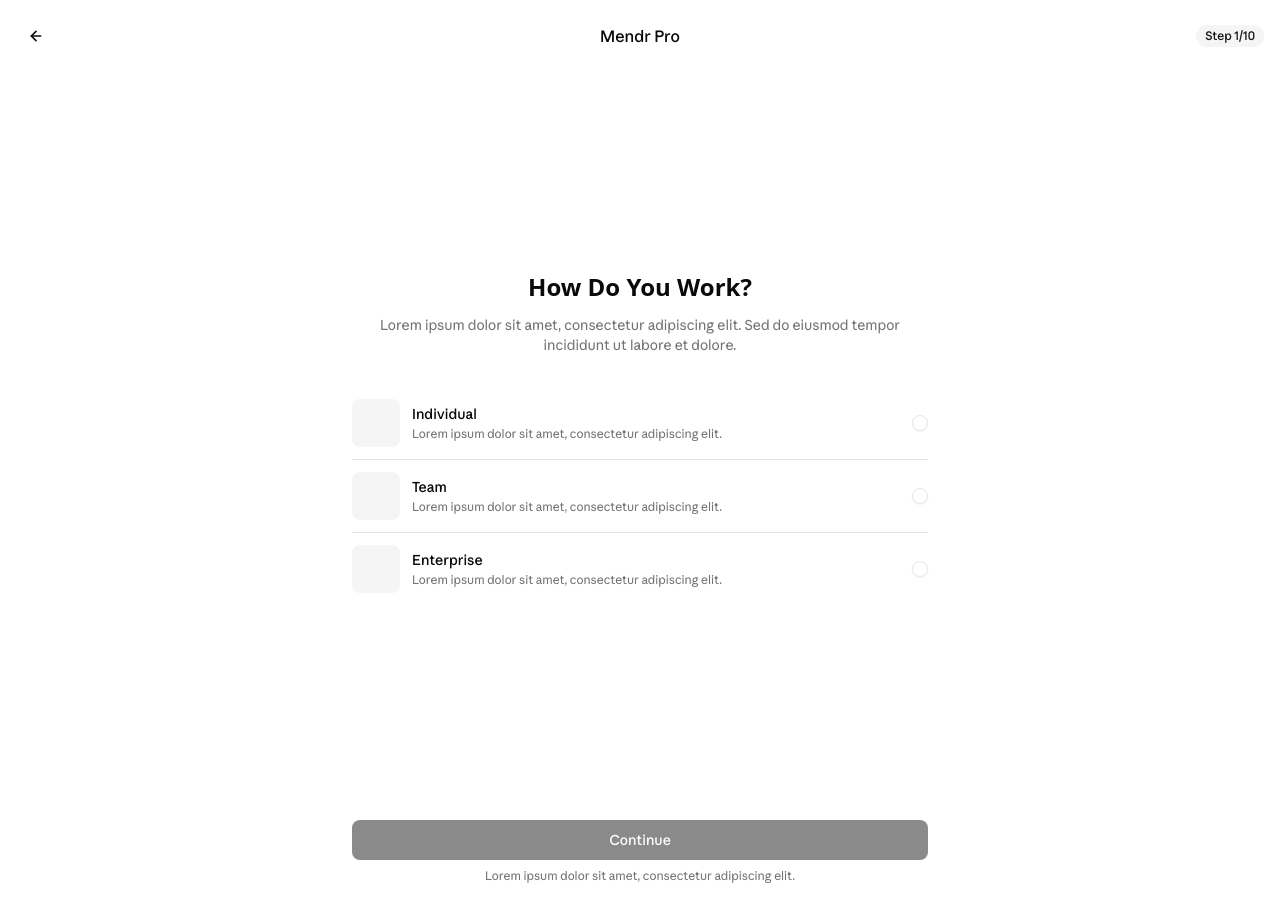
ProOnboardPage — multi-step contractor application › advances to Step 2 (Company Search) on Continue
The image size is (1280, 900).
expect the heading "How Do You Work?" is shown: met, box [528,271,752,303]
Step 1. Click the radio button named "team" in the row of "Team" → (920, 496), box [912,488,928,504]
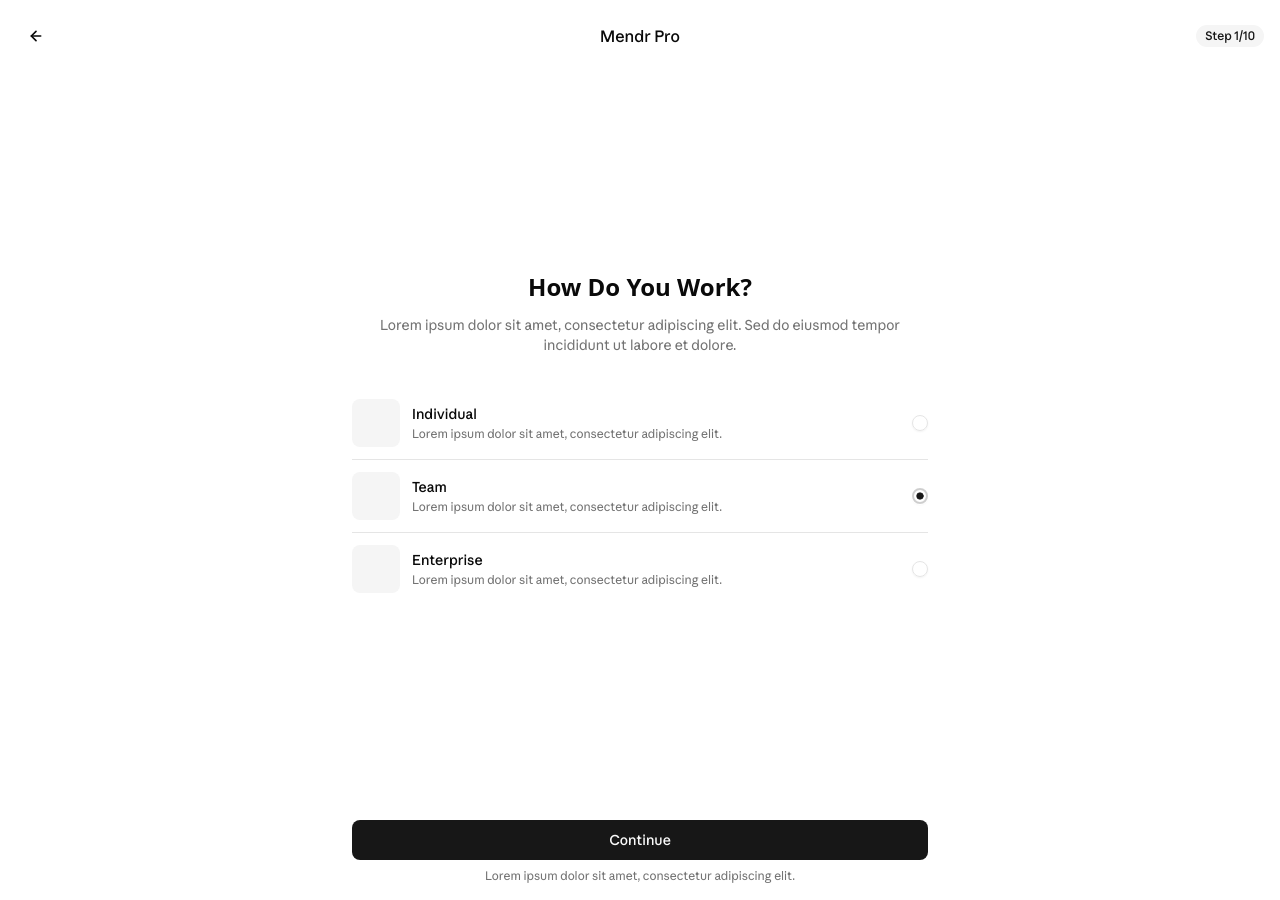
Step 2. Click the button "Continue" → (640, 840), box [352,820,928,860]
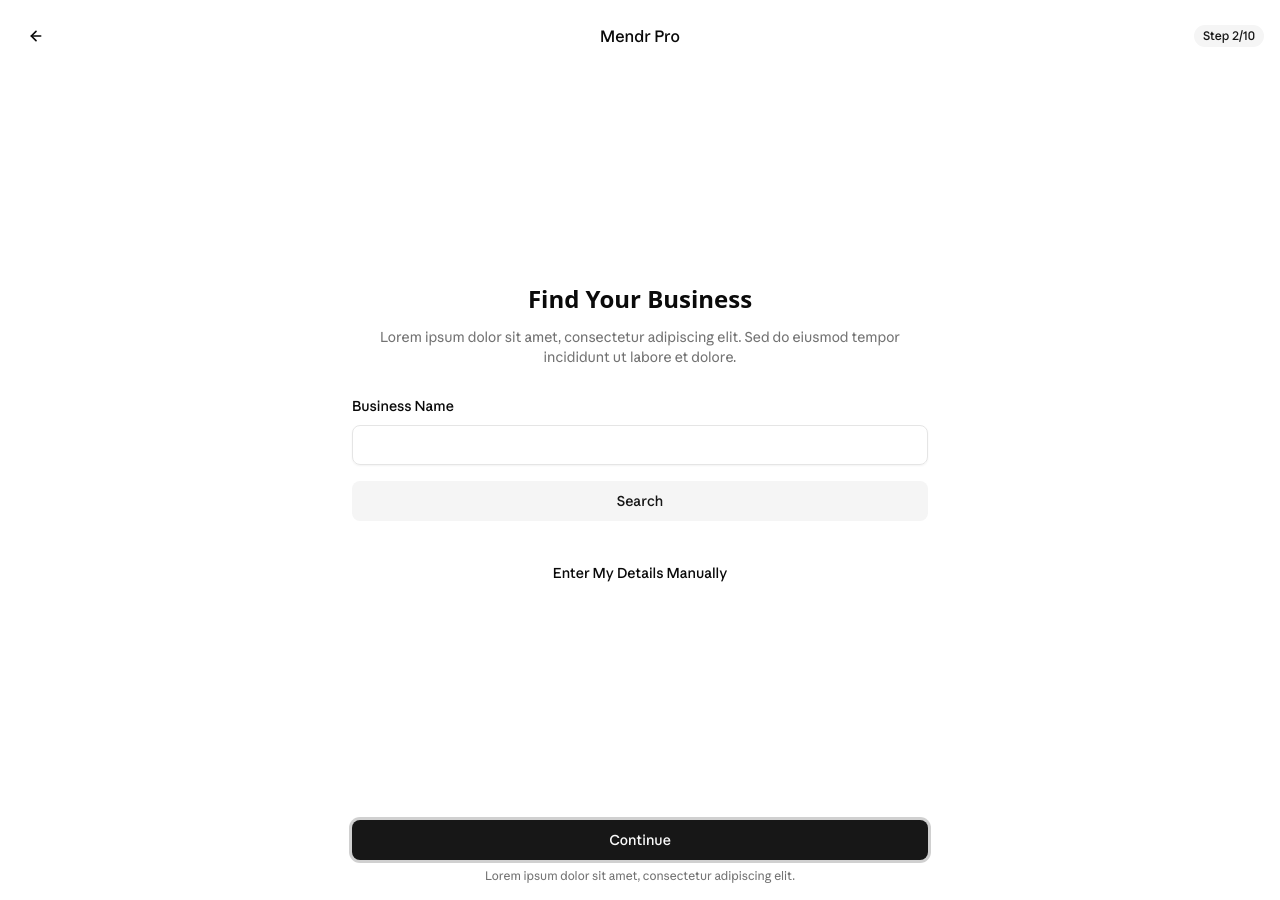
expect the heading "Find Your Business" is shown: met, box [528,283,752,315]
